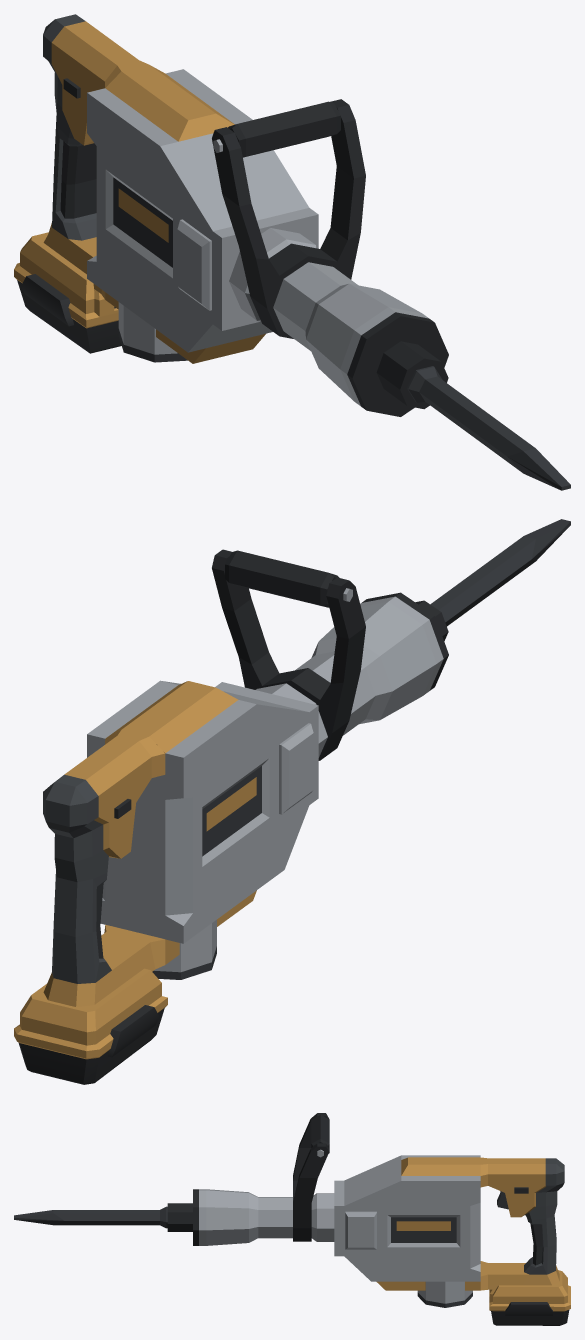
File: SM_Tool_Concrete_Breaker_Hand_01.glb
3 renders of one model, top to bottom at view 1: azimuth 30°, elevation 25°; view 2: azimuth 150°, elevation 25°; view 3: azimuth 270°, elevation 25°, orthographic. The views are drawn at different scales.
Visible parts, largest first — view 1: SM_Tool_Concrete_Breaker_Hand_01, SM_Tool_Concrete_Breaker_Hand_01_Bit, SM_Tool_Concrete_Breaker_Hand_01_Battery; view 2: SM_Tool_Concrete_Breaker_Hand_01, SM_Tool_Concrete_Breaker_Hand_01_Battery, SM_Tool_Concrete_Breaker_Hand_01_Bit; view 3: SM_Tool_Concrete_Breaker_Hand_01, SM_Tool_Concrete_Breaker_Hand_01_Bit, SM_Tool_Concrete_Breaker_Hand_01_Battery.
Boxes of the visible parts, x1,y1,x2,y2 form: SM_Tool_Concrete_Breaker_Hand_01: (20, 14, 448, 416); SM_Tool_Concrete_Breaker_Hand_01_Bit: (407, 366, 570, 490); SM_Tool_Concrete_Breaker_Hand_01_Battery: (14, 263, 121, 353); SM_Tool_Concrete_Breaker_Hand_01: (20, 549, 448, 1045); SM_Tool_Concrete_Breaker_Hand_01_Battery: (14, 996, 167, 1084); SM_Tool_Concrete_Breaker_Hand_01_Bit: (430, 519, 570, 626); SM_Tool_Concrete_Breaker_Hand_01: (167, 1113, 567, 1307); SM_Tool_Concrete_Breaker_Hand_01_Bit: (14, 1206, 167, 1228); SM_Tool_Concrete_Breaker_Hand_01_Battery: (489, 1285, 570, 1325).
Bounding box in the file's own units: 0.1765 × 0.4456 × 1.18.
Materials: 1 (1 with a texture image).
